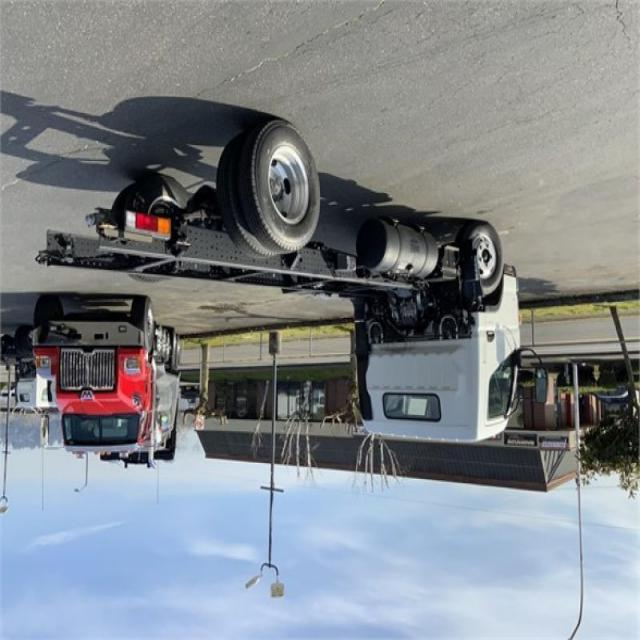truck: (36, 101, 523, 448), (29, 296, 184, 474)
